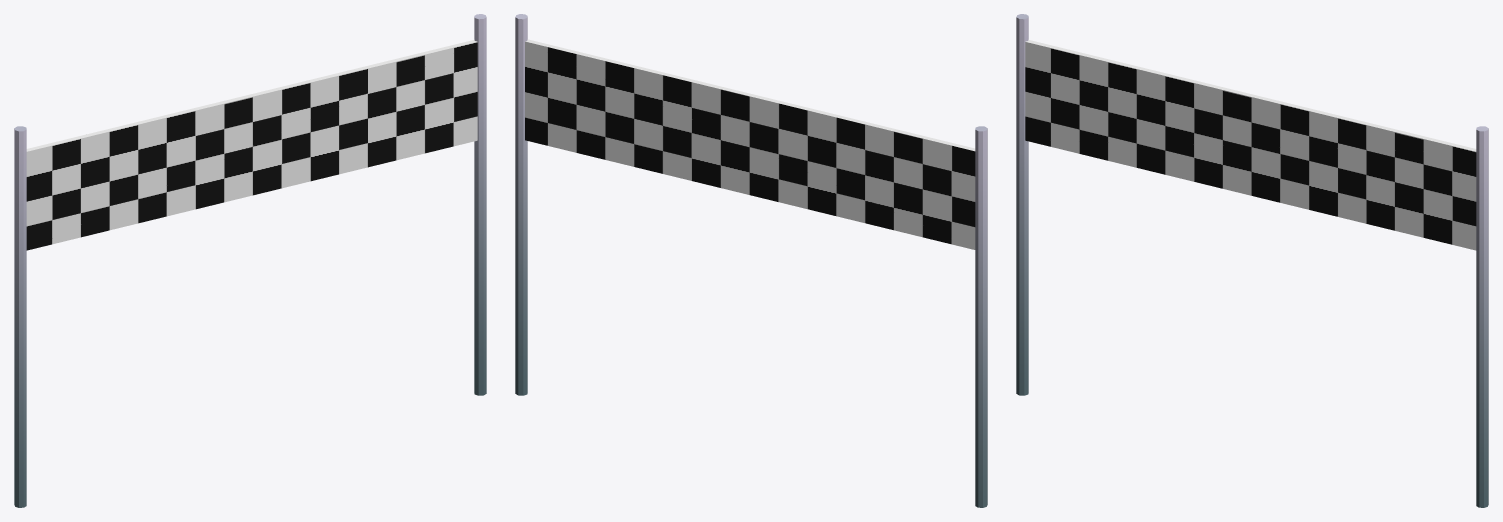
File: SM_Env_Finish.fbx
3 renders of one model, left to right at view 1: azimuth 30°, elevation 25°; view 2: azimuth 150°, elevation 25°; view 3: azimuth 330°, elevation 25°, orthographic.
Visible parts, largest first — view 1: Finish; view 2: Finish; view 3: Finish.
Boxes of the visible parts, box(x1,y1,x2,y2) form: Finish: box(14, 14, 486, 507); Finish: box(515, 14, 987, 507); Finish: box(1016, 14, 1488, 507).
Bounding box in the file's own units: 361 × 276 × 8.53.
1 material, 1 textured.
